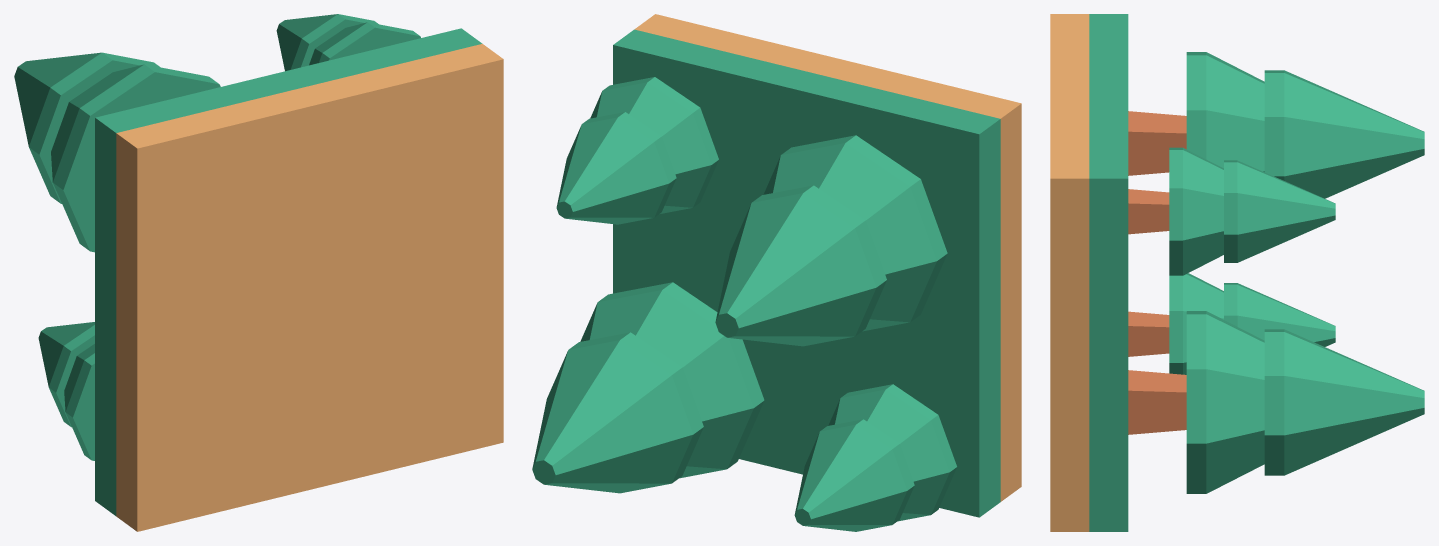
File: tile_treeQuad.001.obj
3 renders of one model, left to right at view 1: azimuth 30°, elevation 25°; view 2: azimuth 150°, elevation 25°; view 3: azimuth 270°, elevation 25°, orthographic. The views are drawn at different scales.
Parts seen in each view (by area): view 1: tile_treeQuad.003; view 2: tile_treeQuad.003; view 3: tile_treeQuad.003.
Part boxes in pixels (x1=…): tile_treeQuad.003: x1=14, y1=14, x2=503, y2=531; tile_treeQuad.003: x1=532, y1=14, x2=1021, y2=531; tile_treeQuad.003: x1=1050, y1=14, x2=1424, y2=531.
Bounding box in the file's own units: 1 × 1 × 0.96.
